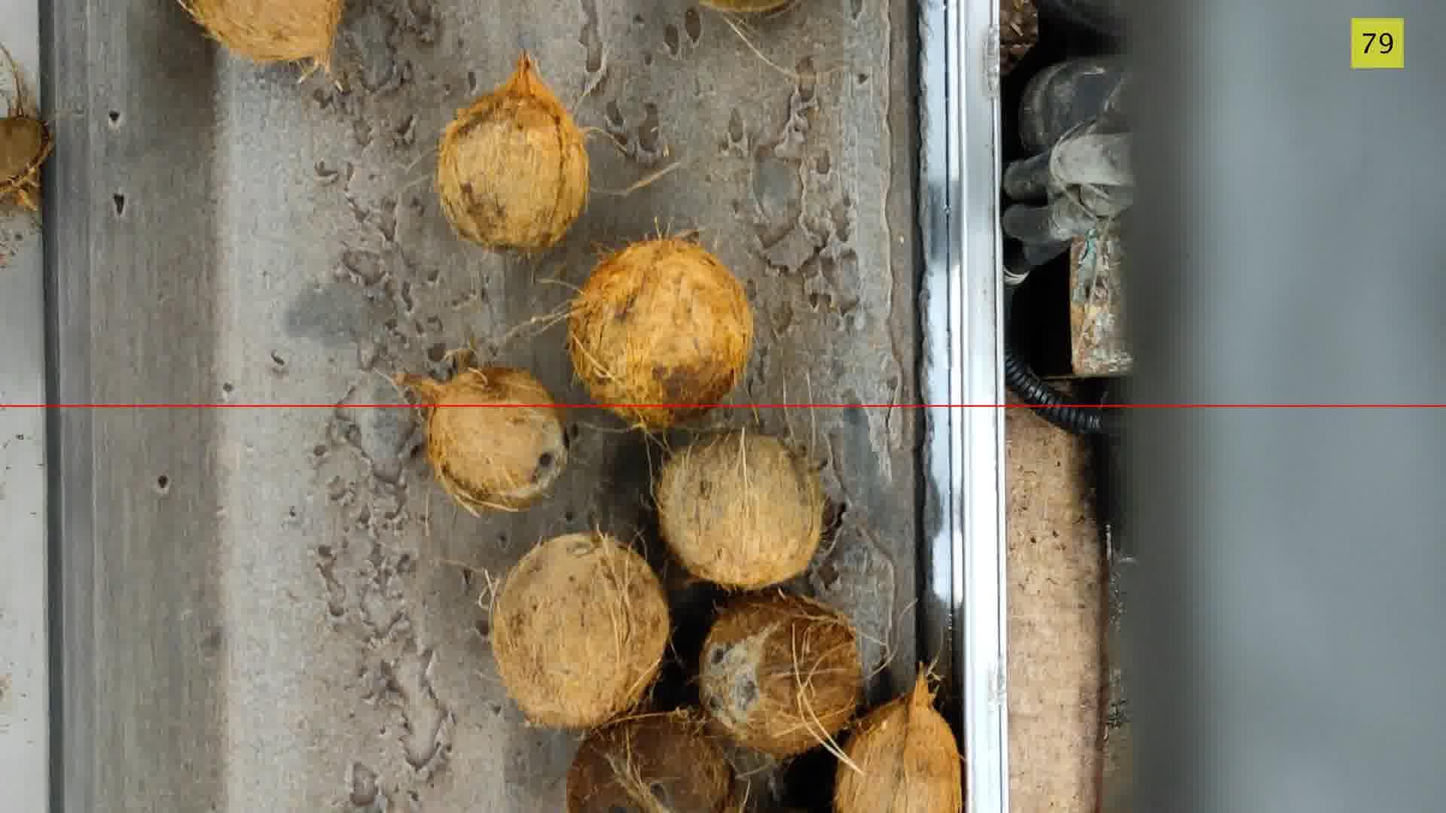Coconut: (568, 238, 753, 430), (492, 532, 670, 728), (436, 53, 588, 251), (700, 591, 862, 758), (654, 430, 823, 589), (407, 367, 567, 513), (834, 674, 962, 812), (566, 710, 737, 812), (182, 0, 343, 69), (0, 46, 53, 210), (701, 0, 794, 13)
